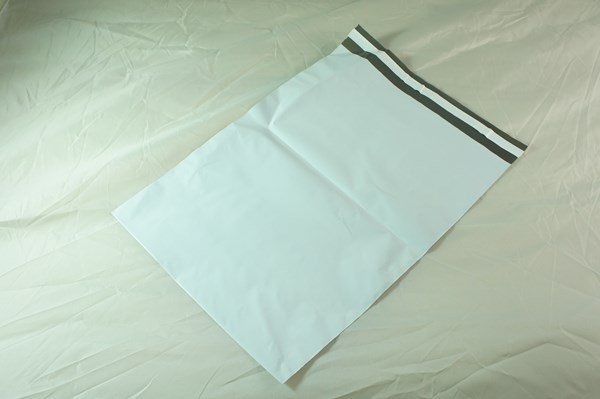Parcel: (117, 28, 521, 378)
